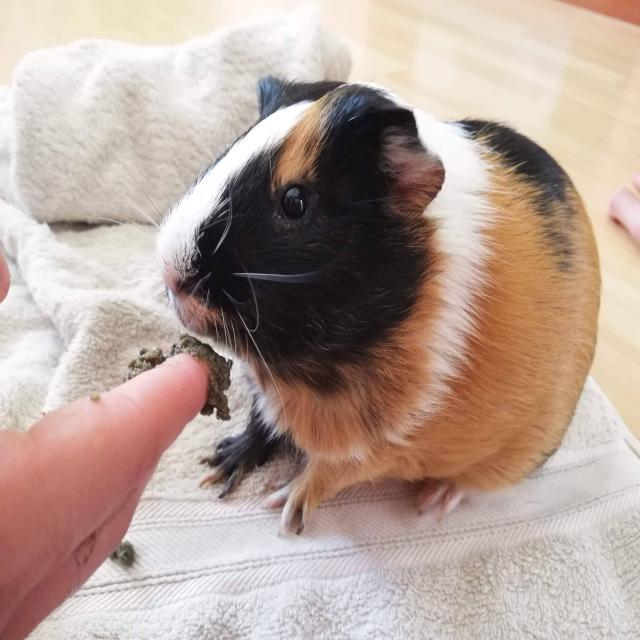guinea pig: (156, 69, 602, 543)
